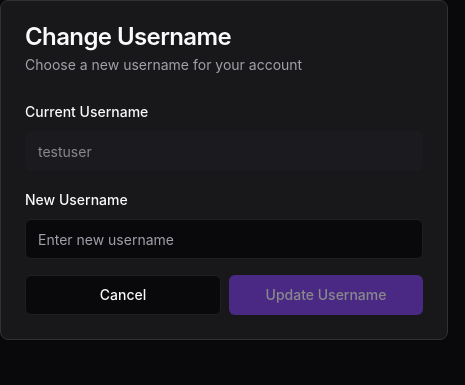
Test case: UsernameChangeForm › validates username format
Type "user@name" into the field with placeholder "Enter new username" at (224, 239), box left=25, top=219, right=423, bottom=259
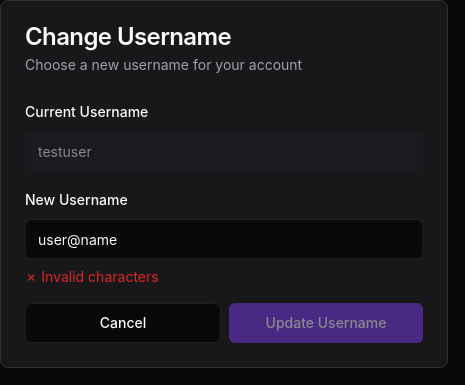
Check: the text "✗ Invalid characters" is shown, box left=25, top=268, right=159, bottom=285
